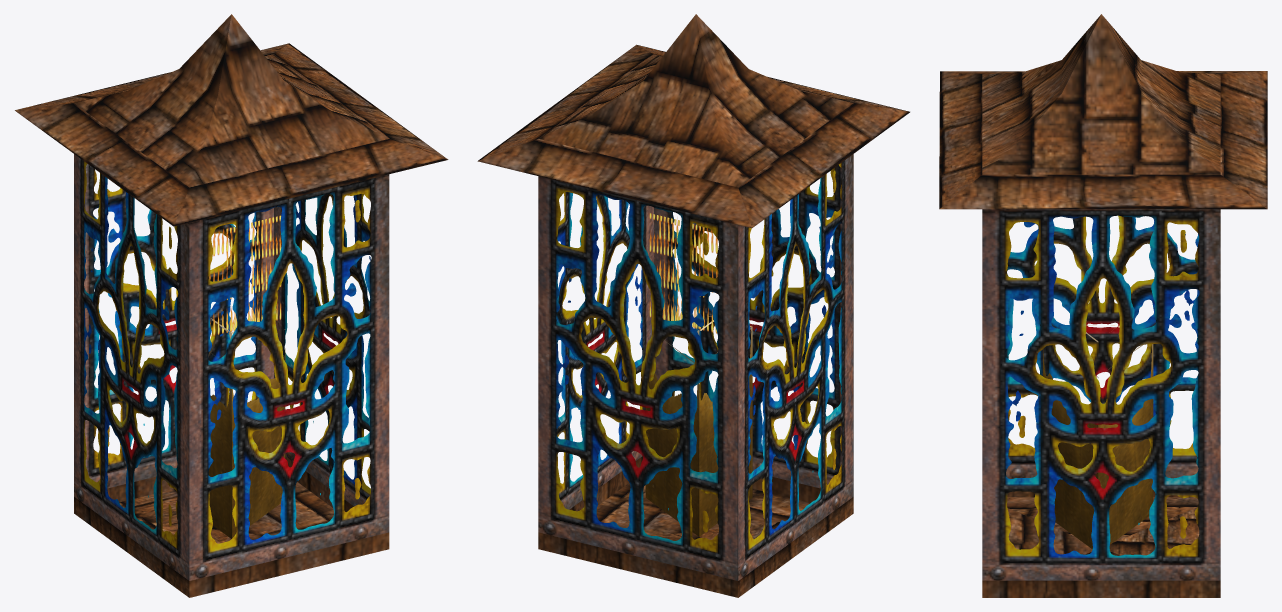
The model's file is mm9_deco_lantern1.glb.
The picture shows the model from 3 angles, left to right: view 1: azimuth 30°, elevation 25°; view 2: azimuth 150°, elevation 25°; view 3: azimuth 270°, elevation 25°; orthographic projection. The views are drawn at different scales.
Parts seen in each view (by area): view 1: Lantern1; view 2: Lantern1; view 3: Lantern1.
Boxes of the visible parts, x1,y1,x2,y2 form: Lantern1: [15, 14, 448, 597]; Lantern1: [477, 14, 909, 597]; Lantern1: [939, 14, 1267, 597].
Bounding box in the file's own units: 0.3151 × 0.5667 × 0.3162.
3 materials, 3 textured.
